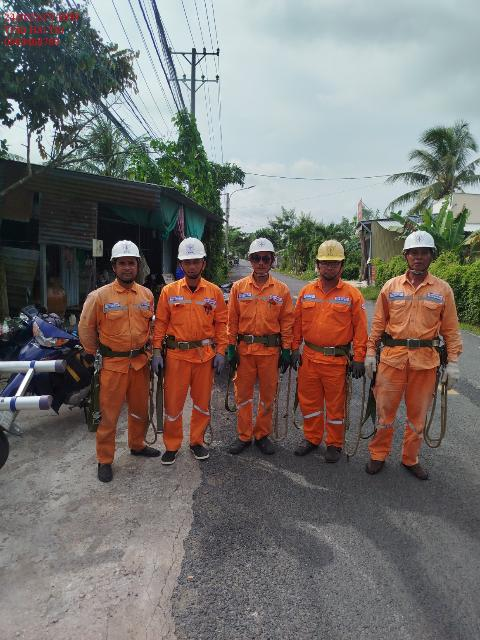gloves: (436, 359, 466, 396), (221, 343, 249, 373), (149, 344, 169, 382), (360, 350, 379, 383), (272, 346, 292, 376), (285, 345, 307, 372), (349, 355, 366, 381), (209, 353, 224, 377)
harness: (373, 325, 456, 356), (149, 328, 206, 358), (97, 340, 158, 364), (301, 333, 355, 360), (237, 325, 290, 347)
helmet: (388, 227, 436, 259), (173, 232, 214, 265), (100, 235, 145, 264), (239, 231, 277, 260), (314, 239, 345, 263)
shoes: (112, 438, 163, 464), (403, 454, 433, 486), (153, 439, 185, 467), (287, 431, 318, 459), (249, 434, 282, 460), (93, 457, 117, 485), (323, 442, 348, 467), (191, 436, 213, 463), (225, 433, 248, 455), (366, 447, 382, 476)
